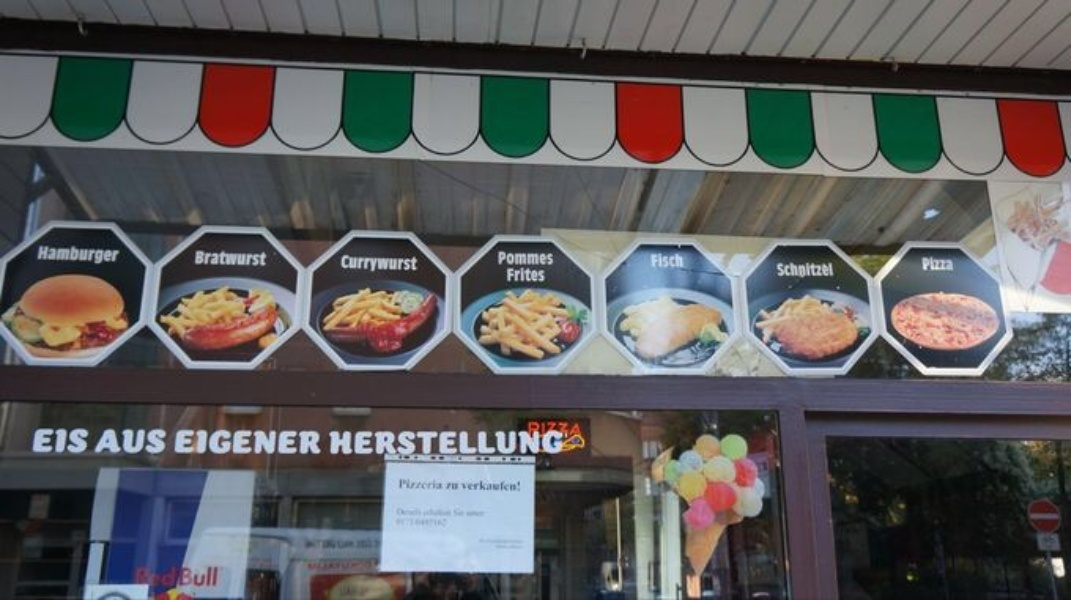text: (305, 536, 320, 574), (321, 536, 336, 574), (337, 536, 352, 574), (353, 536, 368, 574), (369, 536, 383, 574), (49, 429, 64, 456), (65, 429, 80, 456), (113, 429, 128, 456), (129, 429, 144, 456), (145, 429, 160, 456), (177, 430, 192, 457), (193, 430, 208, 457), (209, 430, 224, 457), (225, 430, 240, 457), (241, 430, 256, 457), (257, 430, 272, 457), (273, 430, 288, 457), (289, 430, 304, 457), (305, 430, 320, 457), (34, 429, 48, 456), (337, 432, 352, 457), (353, 432, 368, 457), (369, 432, 384, 457), (385, 432, 400, 457), (401, 432, 416, 457), (417, 432, 432, 457), (433, 432, 448, 457), (449, 432, 464, 457), (465, 432, 480, 457), (481, 432, 496, 457), (497, 432, 512, 457), (513, 432, 528, 457), (529, 432, 544, 457), (545, 432, 560, 457), (145, 566, 160, 589), (161, 566, 176, 589), (177, 566, 192, 589), (193, 566, 208, 589), (529, 421, 544, 441), (545, 421, 560, 441), (561, 421, 576, 441), (401, 508, 416, 528), (417, 508, 432, 528), (433, 508, 448, 528), (449, 508, 464, 528), (465, 508, 480, 528), (81, 429, 92, 456), (49, 246, 64, 265), (65, 246, 80, 265), (81, 246, 96, 265), (97, 246, 112, 265), (209, 249, 224, 268), (225, 249, 240, 268), (241, 249, 256, 268), (529, 267, 545, 284), (353, 256, 368, 273), (369, 256, 384, 273), (385, 256, 400, 273), (401, 256, 416, 273), (513, 267, 528, 284), (929, 256, 944, 273), (103, 429, 112, 456), (401, 479, 416, 495), (417, 479, 432, 495), (433, 479, 448, 495), (449, 479, 464, 495), (465, 479, 480, 495), (481, 479, 496, 495), (497, 479, 512, 495), (513, 251, 528, 267), (529, 251, 544, 267), (657, 252, 672, 268), (785, 262, 800, 278), (801, 262, 816, 278), (817, 262, 832, 278), (209, 566, 219, 589), (196, 249, 208, 268), (498, 251, 512, 267), (257, 249, 268, 268), (673, 252, 686, 268), (328, 432, 336, 457), (38, 246, 48, 265), (341, 256, 352, 273), (136, 566, 144, 589), (945, 256, 955, 273), (161, 429, 167, 456), (513, 479, 523, 495), (545, 251, 555, 267), (113, 246, 120, 265), (577, 421, 583, 441), (394, 508, 400, 528), (301, 536, 304, 574), (777, 262, 784, 278), (481, 508, 486, 528), (923, 256, 928, 273), (651, 252, 656, 268), (561, 432, 564, 457), (508, 267, 512, 284), (321, 430, 323, 457), (417, 256, 419, 273), (833, 262, 835, 278), (175, 430, 176, 457), (399, 479, 400, 495)
